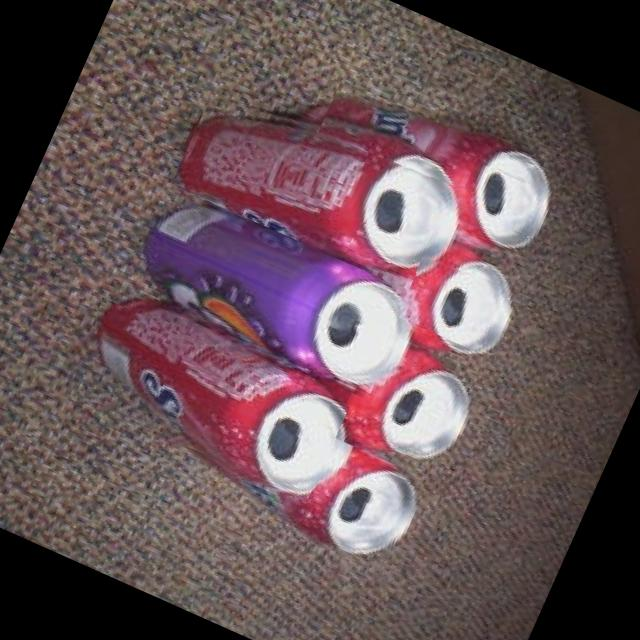Cans: (170, 80, 462, 294), (58, 297, 348, 504), (128, 194, 406, 398), (312, 80, 572, 246), (331, 342, 454, 472), (294, 454, 418, 574), (395, 248, 524, 360)
